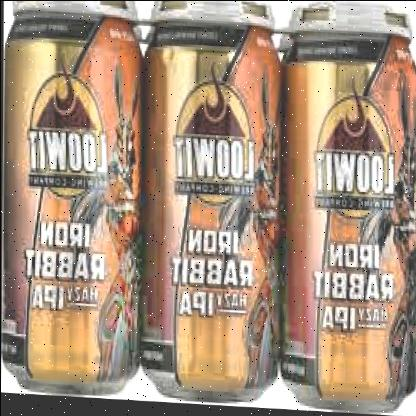Can: (276, 0, 416, 416), (0, 0, 142, 404), (140, 1, 278, 410)
